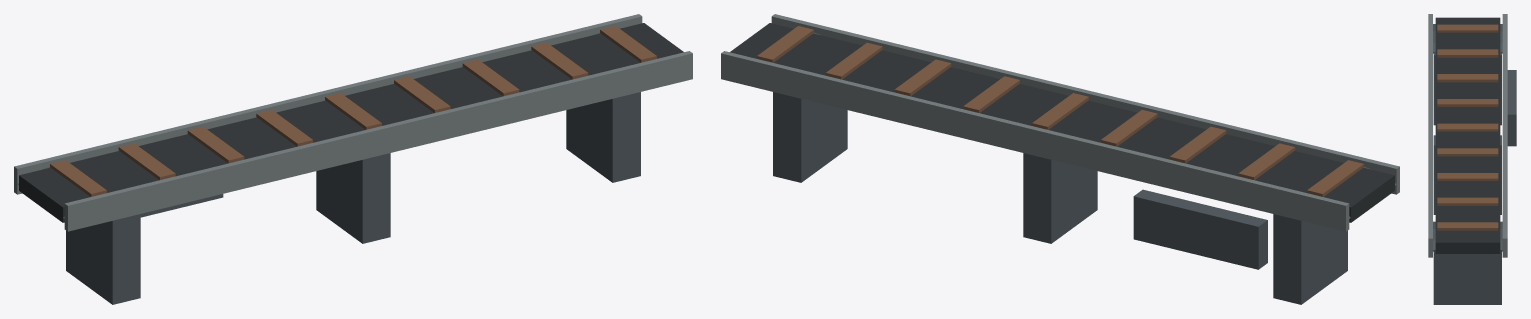
File: conveyor.glb
The picture shows the model from 3 angles, left to right: view 1: azimuth 30°, elevation 25°; view 2: azimuth 150°, elevation 25°; view 3: azimuth 270°, elevation 25°; orthographic projection. The views are drawn at different scales.
Visible parts, largest first — view 1: conveyor; view 2: conveyor; view 3: conveyor.
Boxes of the visible parts, <box> form: conveyor: <box>14,14,692,304</box>; conveyor: <box>721,14,1399,304</box>; conveyor: <box>1428,14,1516,304</box>.
Size of the model in its own units: 5.76 by 1 by 0.96.
